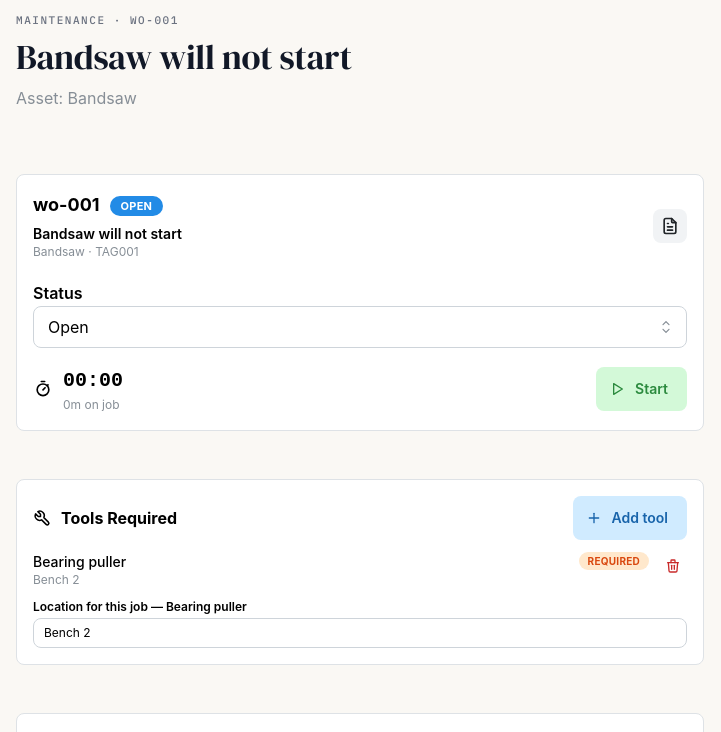
it: AC-21: WorkOrderPage edits per-job locations › restages an ad-hoc row the same way
Step 1. Replace the text in the field labelled "Location for this job — Bearing puller" with "Cart 4" → [360, 633], box [33,618,687,648]
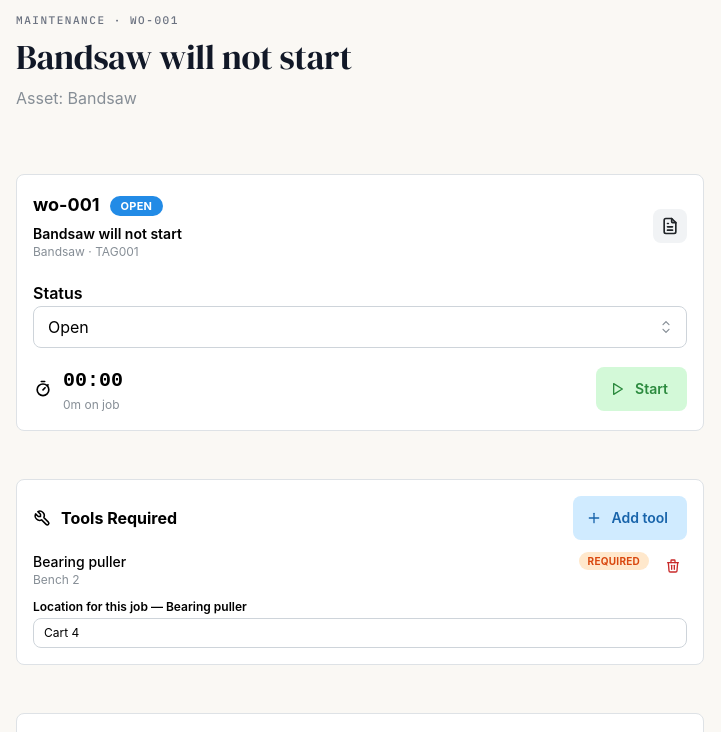
Step 2. Leave the field labelled "Location for this job — Bearing puller", box [33,618,687,648]
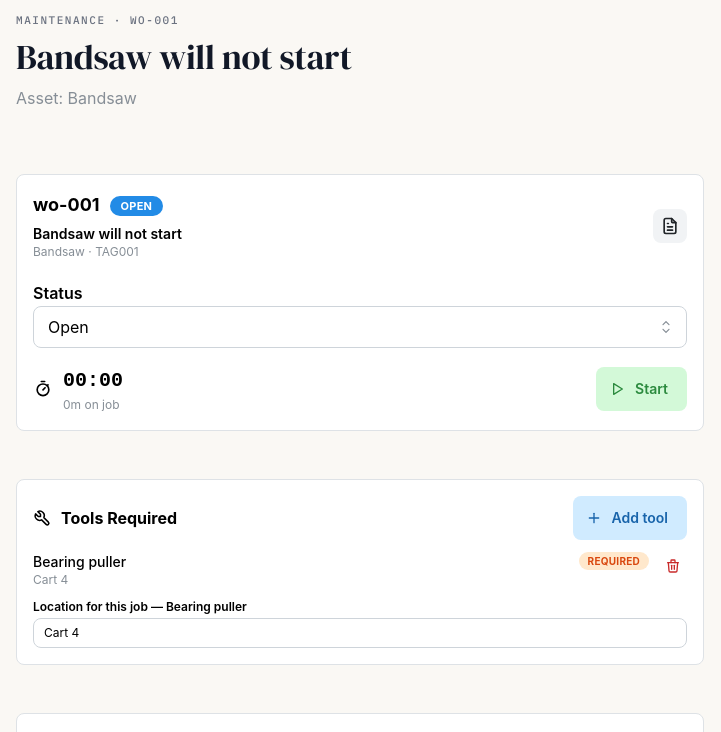
Expected: the text "Cart 4" is shown, [33,572,68,587]
